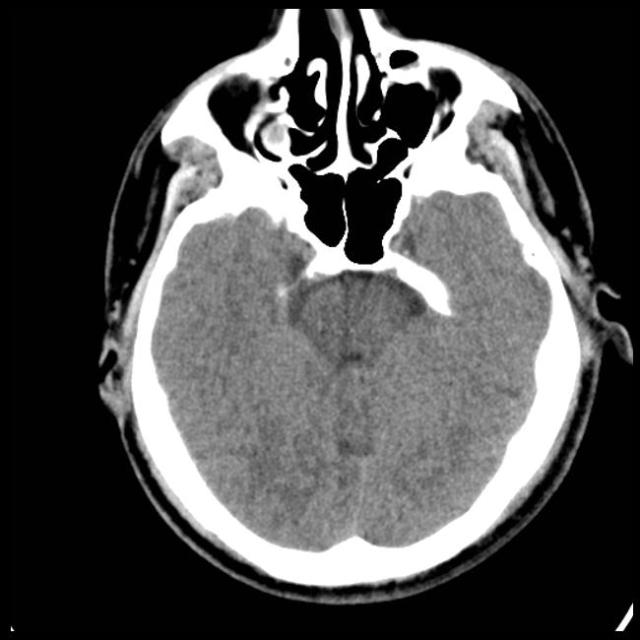lesion: (92, 6, 631, 602)
